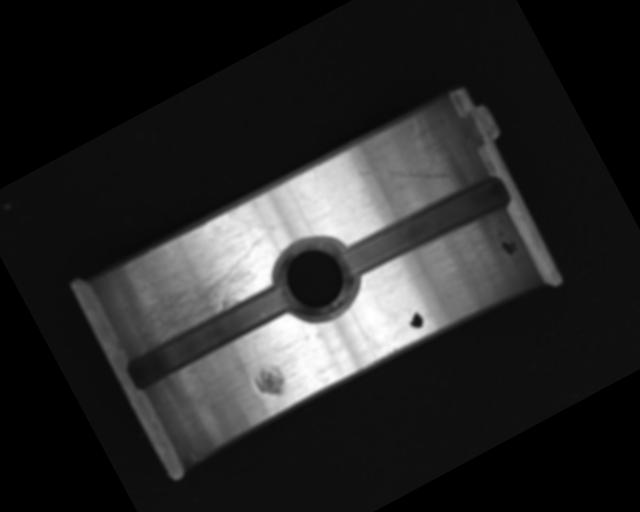blot: (492, 223, 522, 259), (402, 304, 427, 333)
bruise: (248, 359, 292, 403)
gap: (334, 166, 515, 290), (123, 278, 296, 394)
hole: (262, 225, 369, 333)
nick: (355, 132, 454, 217)
scratch: (104, 217, 282, 357)
